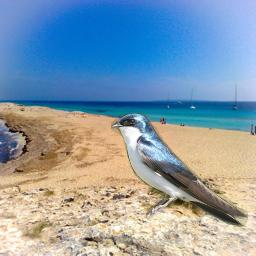Swallow: (111, 113, 248, 227)
